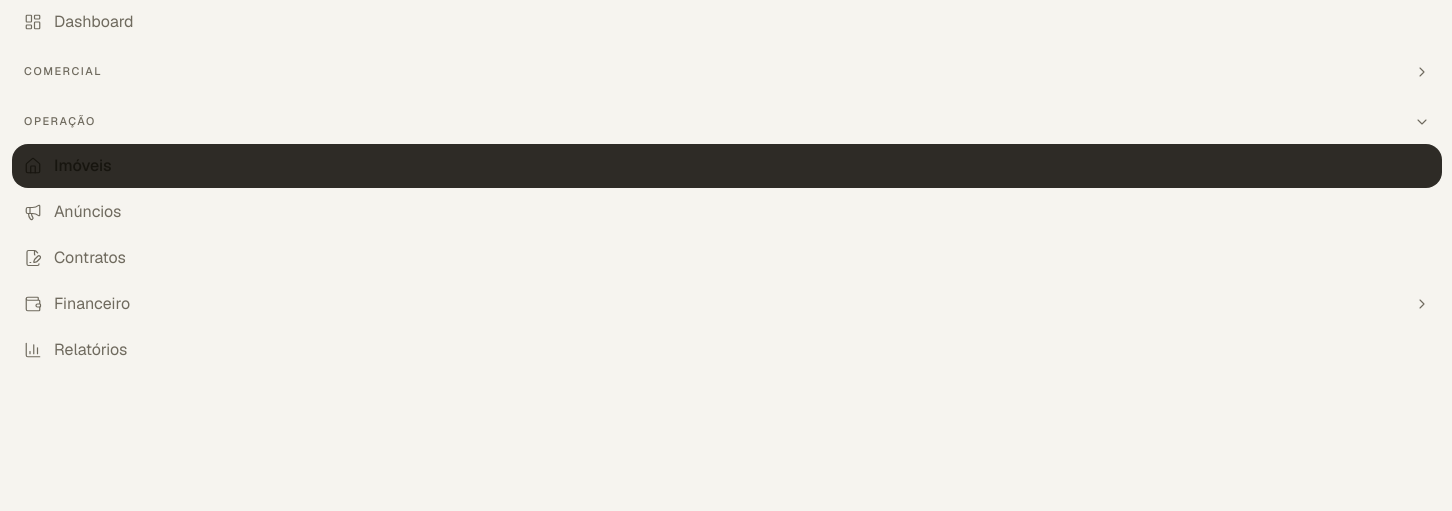
Test case: grupos recolhíveis (drawer mobile) › só o grupo da rota atual começa aberto e cada um alterna
Expected: the link "Leads" is not shown
What coordinates should you click on to do the following:
click the button "Comercial"
I would click on:
 (63, 71)
Its box is [12,50,1442,94].
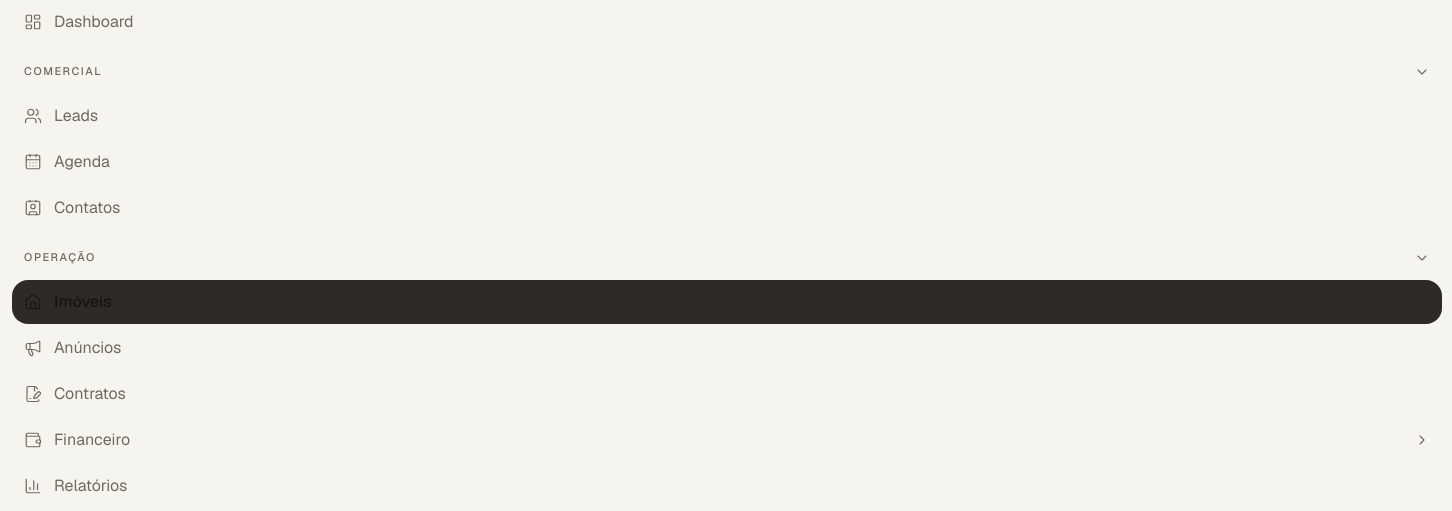
Expected: the link "Leads" is shown, [24,105,98,126]
